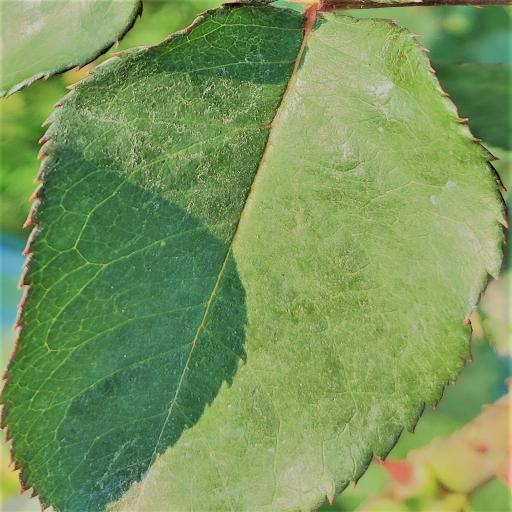healthy_leaf: (1, 2, 508, 512)
